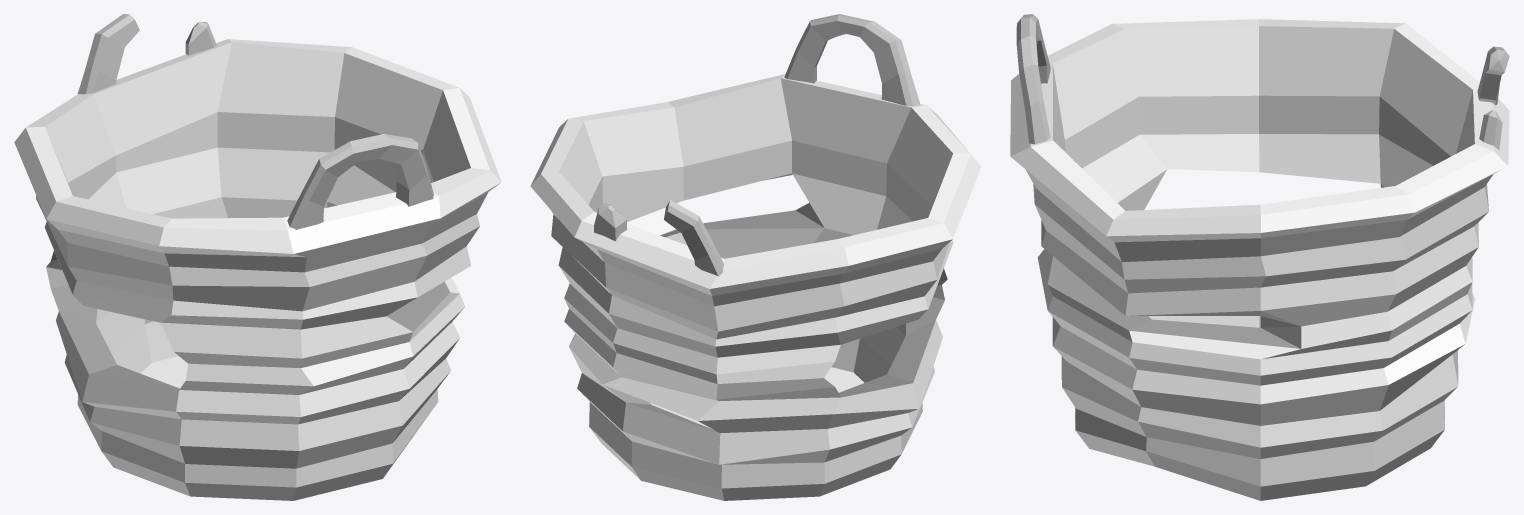
Rendered from PT_Basket_11.fbx.
3 renders of one model, left to right at view 1: azimuth 30°, elevation 25°; view 2: azimuth 150°, elevation 25°; view 3: azimuth 270°, elevation 25°, orthographic. The views are drawn at different scales.
Parts seen in each view (by area): view 1: PT_Basket_11; view 2: PT_Basket_11; view 3: PT_Basket_11.
Part boxes in pixels (left/top/right/bottom): PT_Basket_11: left=14, top=14, right=501, bottom=500; PT_Basket_11: left=530, top=14, right=981, bottom=500; PT_Basket_11: left=1010, top=14, right=1509, bottom=500.
Bounding box in the file's own units: 56.35 × 47.3 × 53.55.
1 material, 1 textured.
